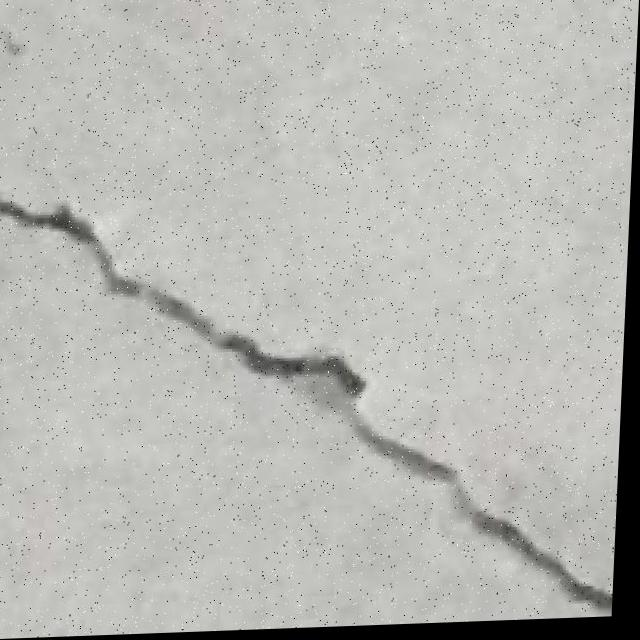Crack: (0, 166, 634, 640)
